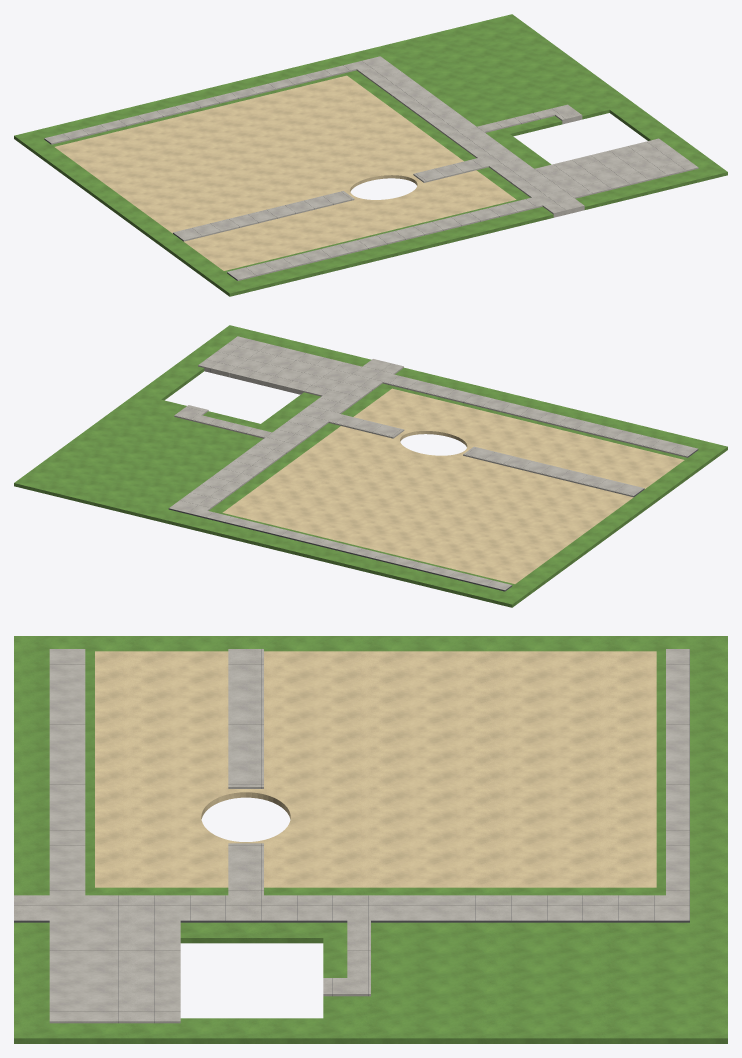
Rendered from site.glb.
The picture shows the model from 3 angles, top to bottom: view 1: azimuth 30°, elevation 25°; view 2: azimuth 150°, elevation 25°; view 3: azimuth 270°, elevation 25°; orthographic projection. The views are drawn at different scales.
Parts seen in each view (by area): view 1: site_sand, site_grass, site_concrete; view 2: site_sand, site_grass, site_concrete, site_dark; view 3: site_sand, site_grass, site_concrete, site_dark.
Part boxes in pixels (x1,y1,x2,y2): site_sand: [55, 75, 516, 270]; site_grass: [14, 14, 727, 296]; site_concrete: [44, 56, 698, 280]; site_sand: [222, 388, 684, 583]; site_grass: [14, 325, 727, 607]; site_concrete: [169, 336, 697, 590]; site_dark: [168, 368, 698, 591]; site_sand: [95, 651, 656, 887]; site_grass: [14, 636, 727, 1043]; site_concrete: [14, 649, 689, 1023]; site_dark: [14, 649, 689, 1022].
Bounding box in the file's own units: 40 × 0.35 × 30.
4 materials, 3 textured.
